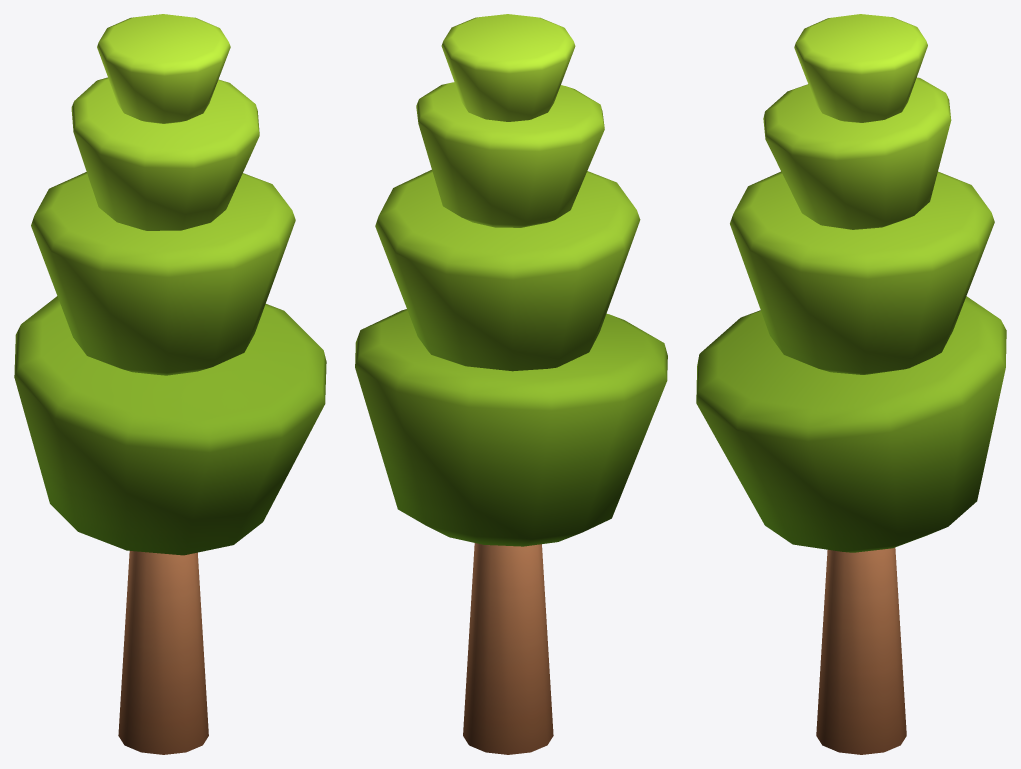
Rendered from lpb_tree_5_a.fbx.
3 renders of one model, left to right at view 1: azimuth 30°, elevation 25°; view 2: azimuth 150°, elevation 25°; view 3: azimuth 270°, elevation 25°, orthographic.
Visible parts, largest first — view 1: ap_tree_5; view 2: ap_tree_5; view 3: ap_tree_5.
Boxes of the visible parts, left/top/right/bottom form: ap_tree_5: left=14, top=14, right=326, bottom=754; ap_tree_5: left=355, top=14, right=667, bottom=754; ap_tree_5: left=696, top=14, right=1006, bottom=754.
Bounding box in the file's own units: 222 × 546 × 220.
